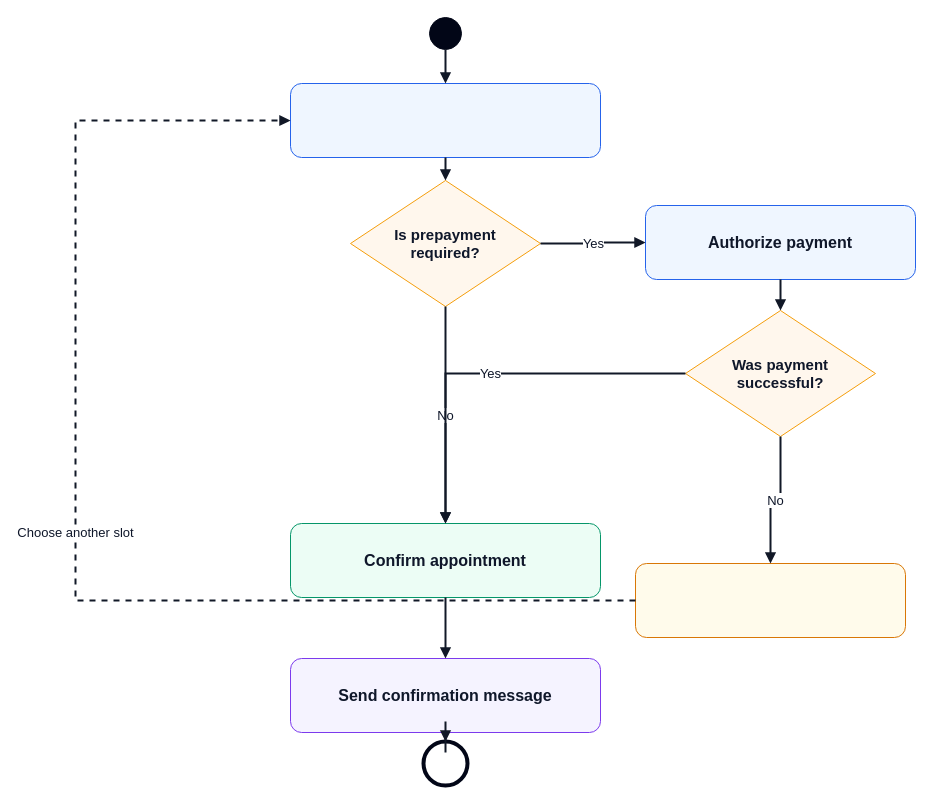
This 933x805 diagram has some shape labels left out. The shapes that lost their labels are listed below. From the top down, each one's centre as x and y in pixels, then its label:
At (445,120): "Temporarily reserve selected slot".
At (770,600): "Release slot and show error".
